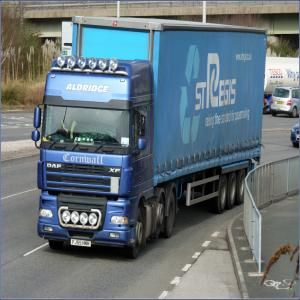Vehicle-registration-plate: (71, 240, 92, 247), (277, 102, 285, 106), (298, 135, 300, 140)
